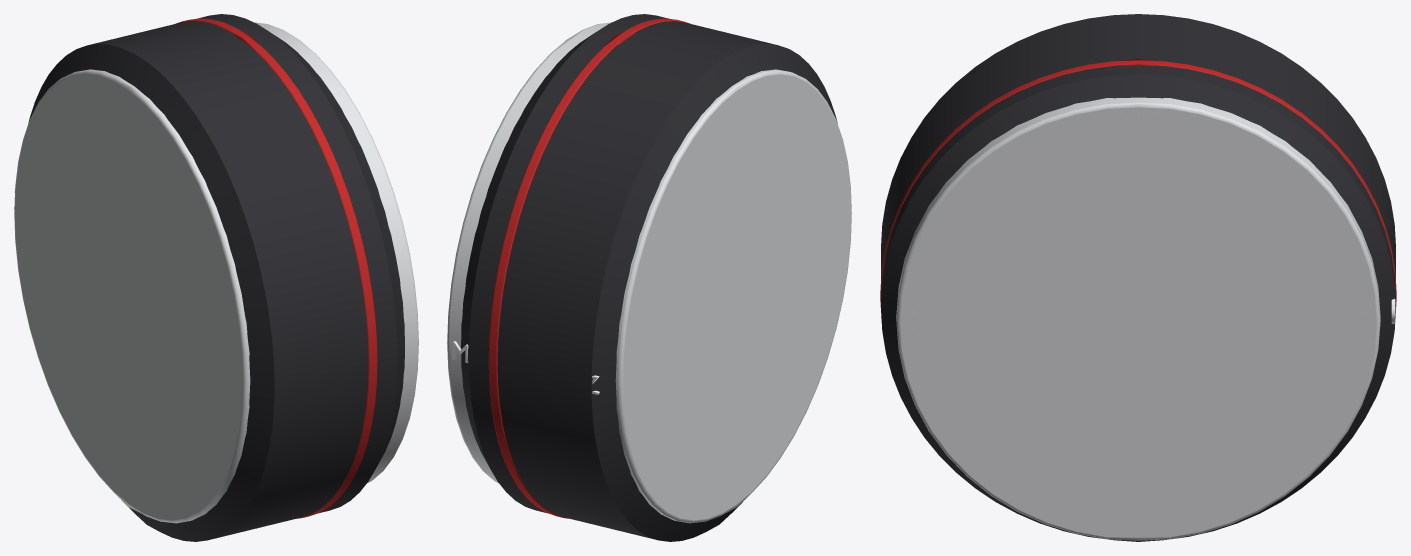
File: megadap_ef_z.glb
3 renders of one model, left to right at view 1: azimuth 30°, elevation 25°; view 2: azimuth 150°, elevation 25°; view 3: azimuth 270°, elevation 25°, orthographic.
Visible parts, largest first — view 1: Megadap EF-Z; view 2: Megadap EF-Z; view 3: Megadap EF-Z.
Part boxes in pixels (x1=…): Megadap EF-Z: x1=14, y1=14, x2=418, y2=541; Megadap EF-Z: x1=447, y1=14, x2=851, y2=541; Megadap EF-Z: x1=880, y1=14, x2=1396, y2=541.
Size of the model in its own units: 0.028 by 0.0723 by 0.0722.
